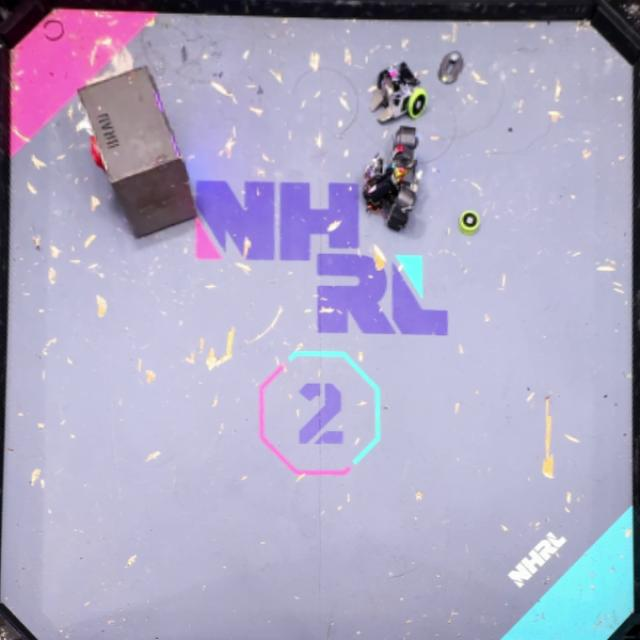housebot: (76, 65, 198, 238)
robot: (362, 124, 420, 232), (370, 61, 428, 124)
